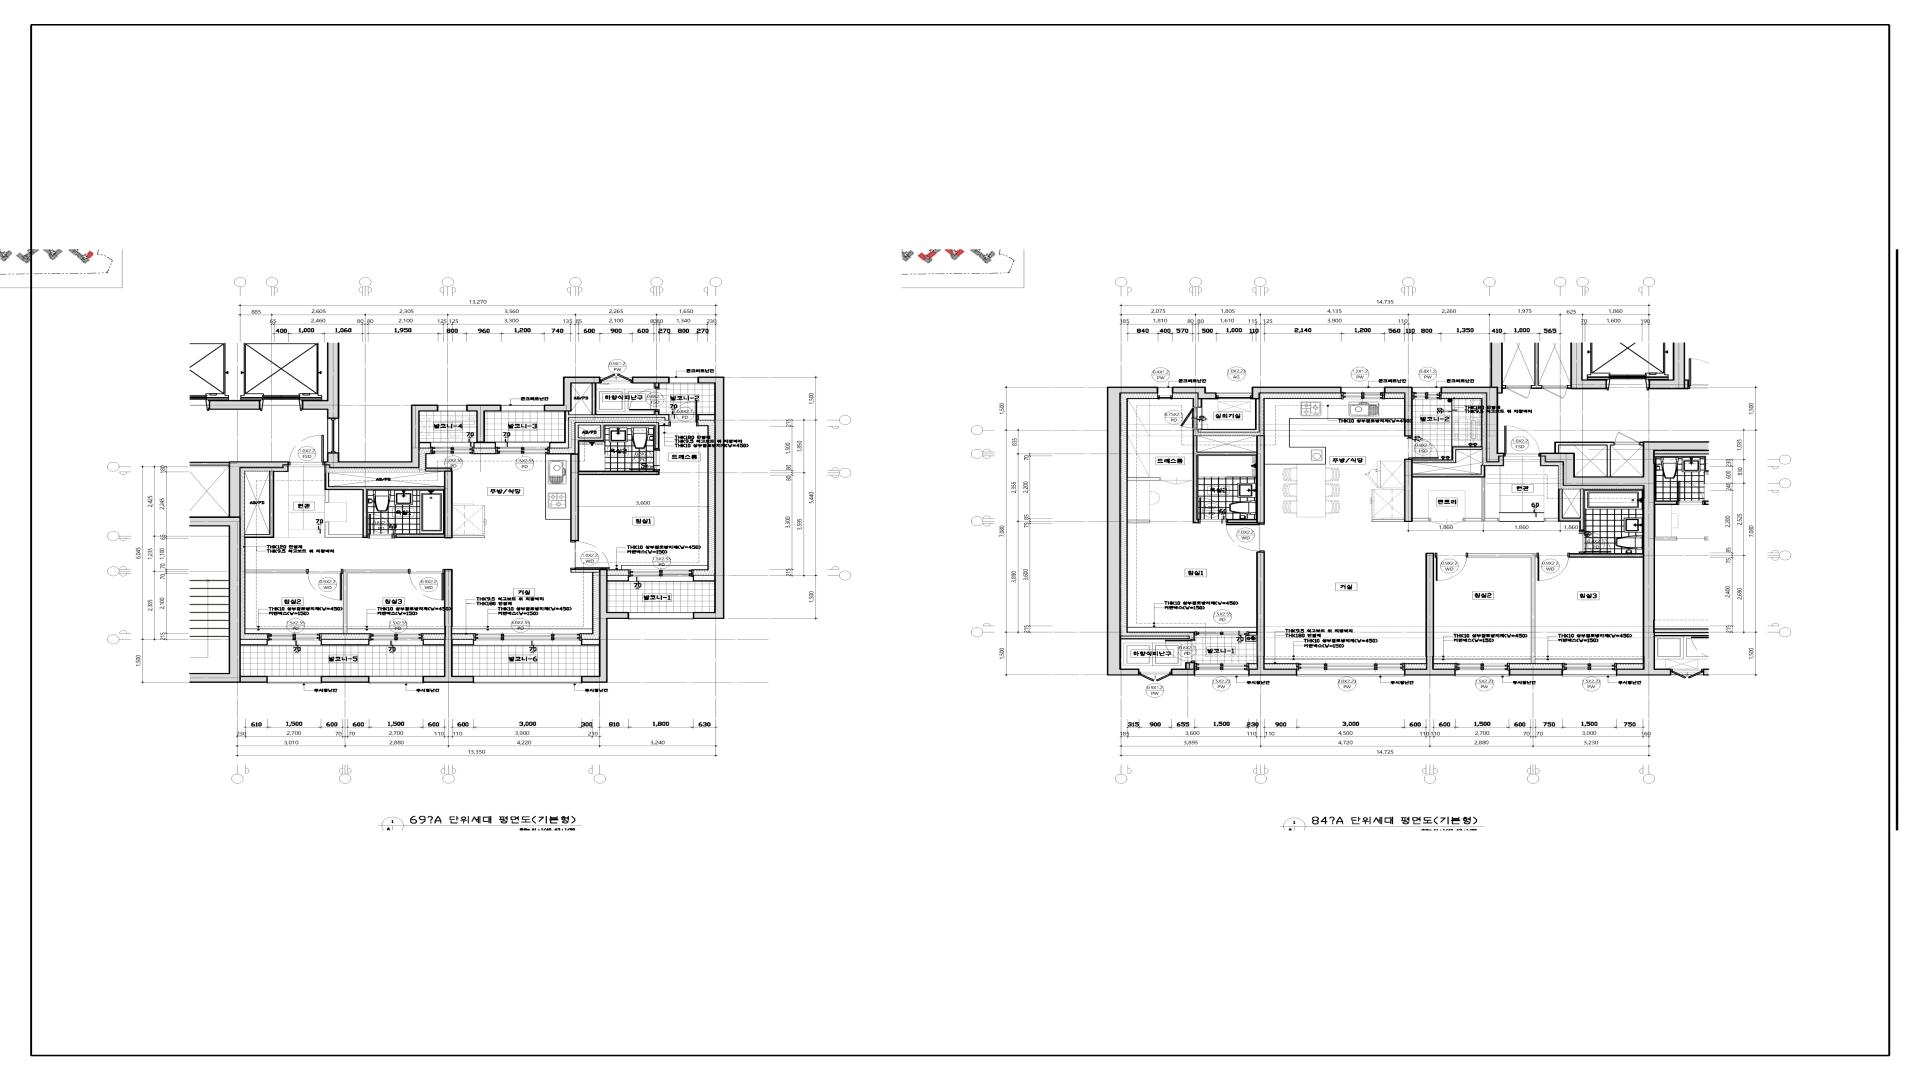door: (306, 568, 343, 601), (570, 541, 611, 570), (407, 568, 444, 600), (1505, 425, 1540, 456), (1225, 524, 1265, 551), (289, 435, 324, 465), (1536, 553, 1569, 582), (1435, 553, 1468, 582), (1578, 530, 1613, 553), (670, 400, 699, 426), (1199, 497, 1228, 524), (1408, 436, 1440, 459), (1164, 640, 1195, 662), (629, 450, 661, 471), (368, 514, 396, 538), (1180, 407, 1197, 429), (1431, 518, 1462, 526), (1160, 477, 1192, 485)
wall: (1540, 440, 1709, 675), (1106, 386, 1158, 675), (228, 462, 289, 683), (324, 467, 485, 538), (570, 422, 659, 541), (1371, 446, 1499, 522), (550, 384, 670, 448), (694, 377, 725, 618), (1441, 343, 1505, 463), (1468, 554, 1536, 663), (324, 405, 438, 468), (1192, 435, 1265, 524), (1406, 553, 1455, 675), (1249, 551, 1296, 675), (423, 570, 473, 683), (582, 570, 628, 683), (343, 570, 407, 633), (302, 343, 340, 418), (1197, 400, 1261, 433), (245, 471, 274, 538), (543, 377, 600, 411), (1571, 343, 1607, 389), (1650, 343, 1685, 389), (1544, 489, 1584, 530), (1385, 386, 1412, 436), (467, 405, 501, 442), (1251, 386, 1341, 400), (1172, 386, 1216, 400), (210, 400, 260, 410), (1569, 553, 1643, 558), (322, 638, 369, 646), (1510, 669, 1563, 675), (322, 676, 369, 683), (1121, 636, 1189, 640), (245, 570, 306, 574), (633, 377, 669, 384), (241, 638, 268, 646), (423, 638, 444, 646), (452, 638, 473, 646), (1171, 669, 1195, 675), (473, 442, 496, 448), (608, 575, 629, 582), (694, 575, 715, 582), (582, 638, 599, 646), (1127, 477, 1160, 481), (698, 414, 715, 421), (1127, 520, 1150, 524), (419, 442, 431, 448), (571, 570, 599, 572), (1197, 400, 1203, 407), (1249, 632, 1257, 636), (1185, 662, 1189, 669), (655, 384, 659, 388)
window: (1296, 663, 1406, 676), (473, 633, 582, 646), (629, 570, 694, 582), (1455, 663, 1510, 676), (473, 676, 582, 683), (268, 633, 322, 646), (369, 633, 423, 646), (1195, 663, 1249, 676), (1563, 663, 1617, 676), (496, 442, 550, 454), (1341, 386, 1385, 400), (431, 442, 473, 455), (629, 612, 694, 620), (268, 676, 322, 684), (1139, 669, 1171, 682), (327, 418, 339, 452), (1412, 386, 1441, 400), (369, 676, 423, 683), (600, 373, 632, 384), (501, 405, 543, 411), (1216, 393, 1251, 400), (1195, 632, 1249, 636), (438, 405, 467, 411), (1158, 386, 1172, 400), (670, 377, 698, 384)
